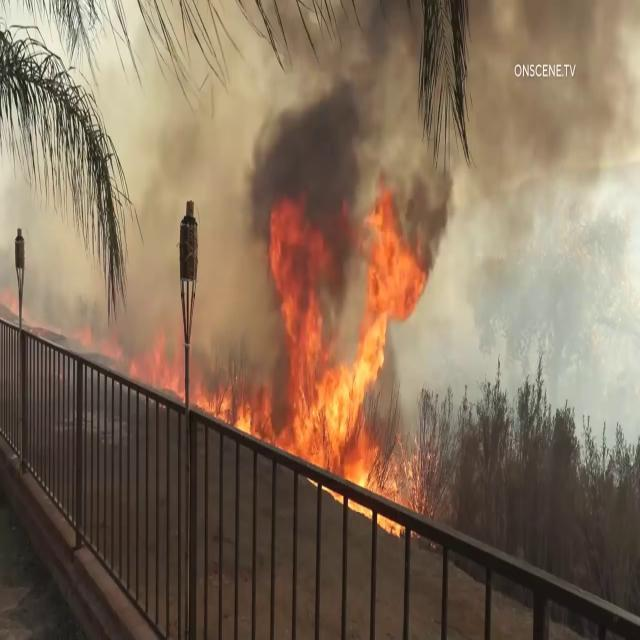Fire: (258, 193, 426, 507)
Smoke: (425, 0, 640, 435), (1, 8, 248, 366), (144, 2, 420, 306)
